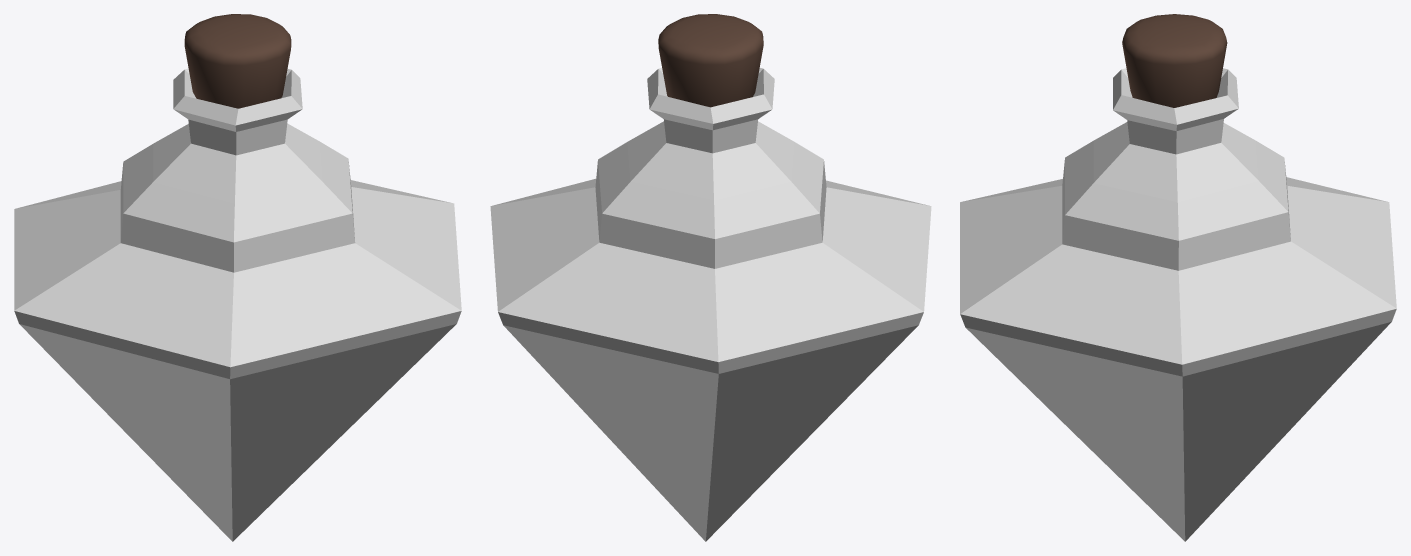
File: quaternius-rpg-items-potion-11-empty.glb
3 views of the same model, side by side, from view 1: azimuth 30°, elevation 25°; view 2: azimuth 150°, elevation 25°; view 3: azimuth 270°, elevation 25° (orthographic).
Parts seen in each view (by area): view 1: Potion11_Empty; view 2: Potion11_Empty; view 3: Potion11_Empty.
Boxes of the visible parts, x1,y1,x2,y2 form: Potion11_Empty: (14,14,461,541); Potion11_Empty: (490,14,931,541); Potion11_Empty: (960,14,1396,541).
Bounding box in the file's own units: 0.8358 × 0.9373 × 0.7238.
